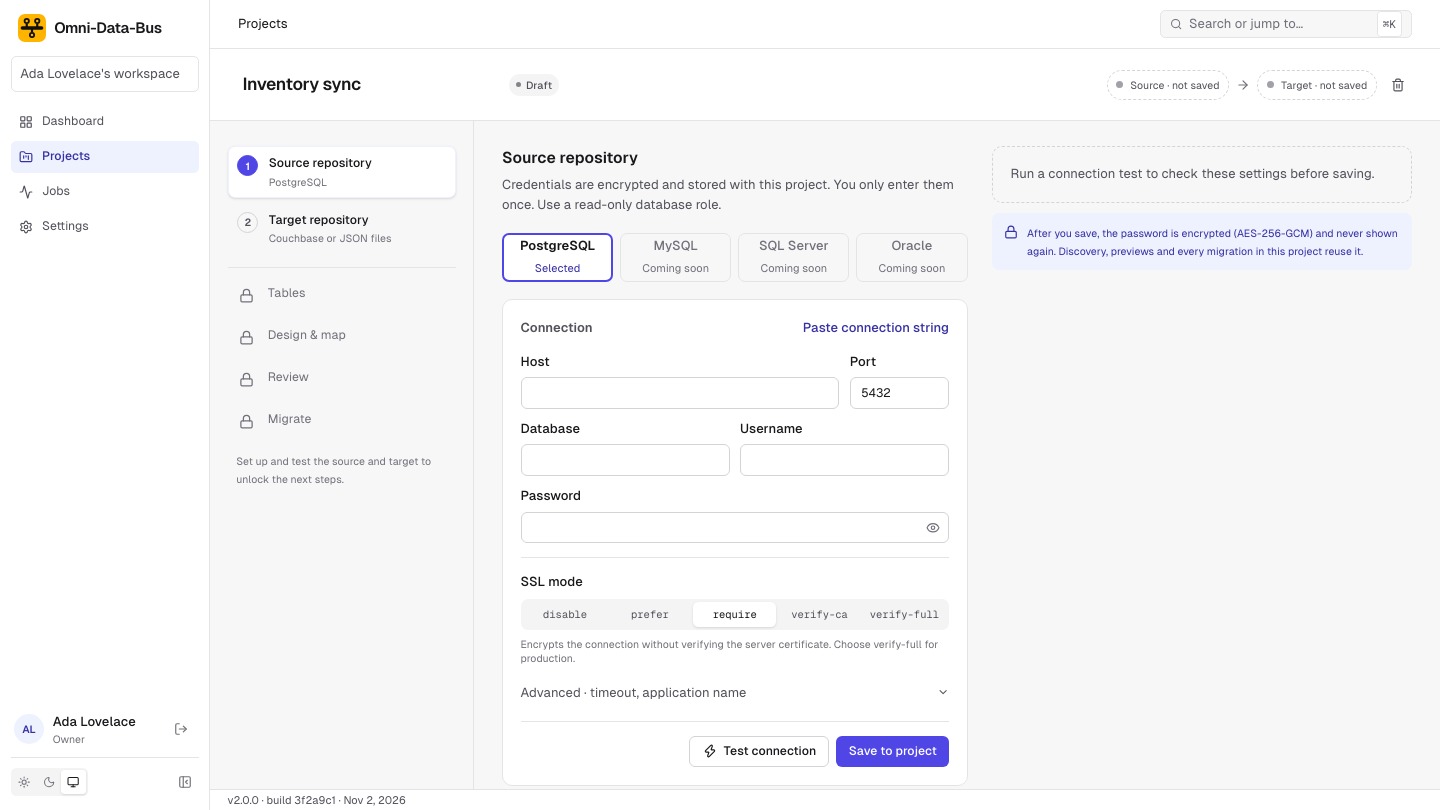
Scenario: Source step › AC6: confirms when untested, then collapses to the summary card
The image size is (1440, 810).
In the field labelled "Host": [680, 393] box 520,377 -> 839,408, type "db.example.com"
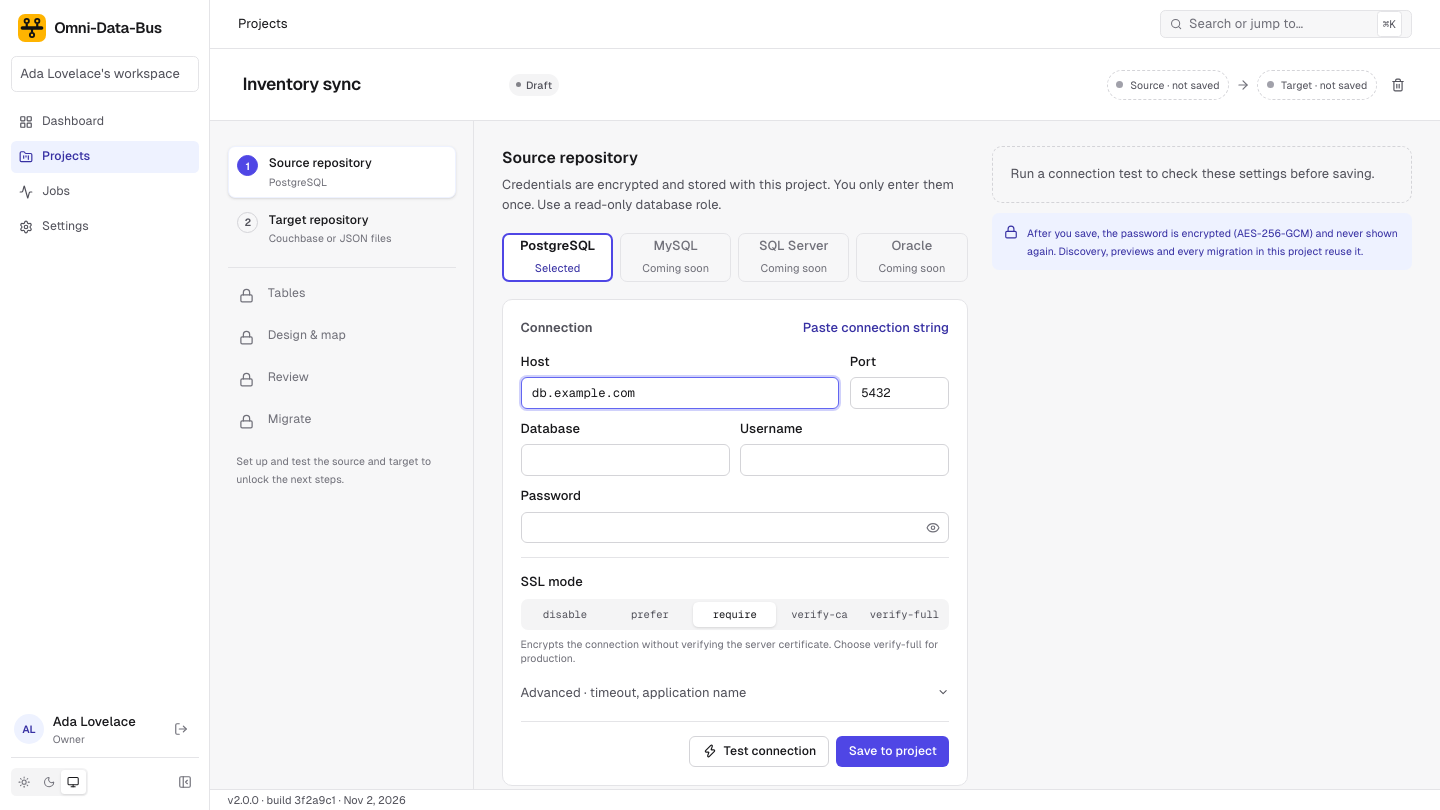
In the field labelled "Database": [625, 460] box 520,444 -> 730,476, type "shop"
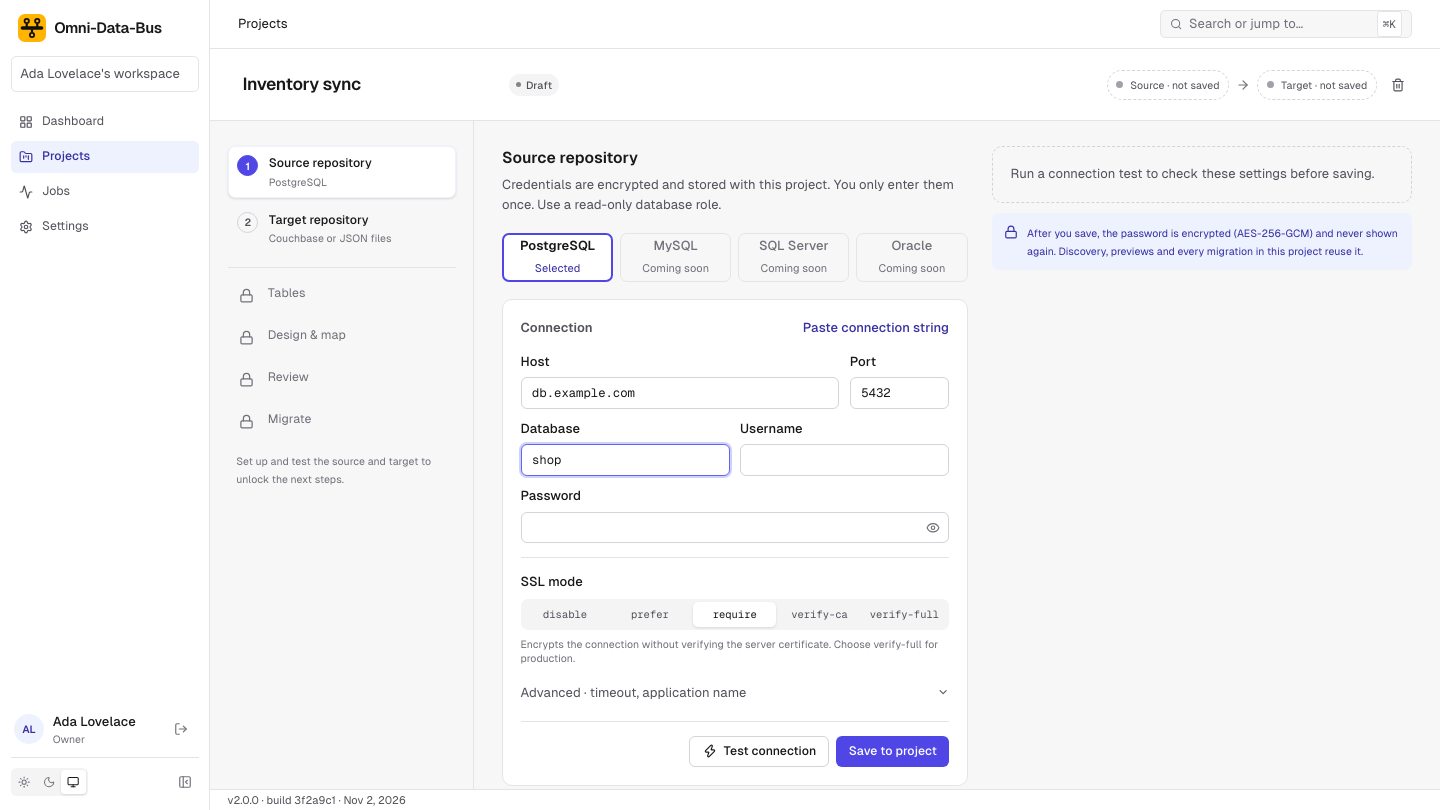
In the field labelled "Username": [844, 460] box 740,444 -> 949,476, type "omni_ro"
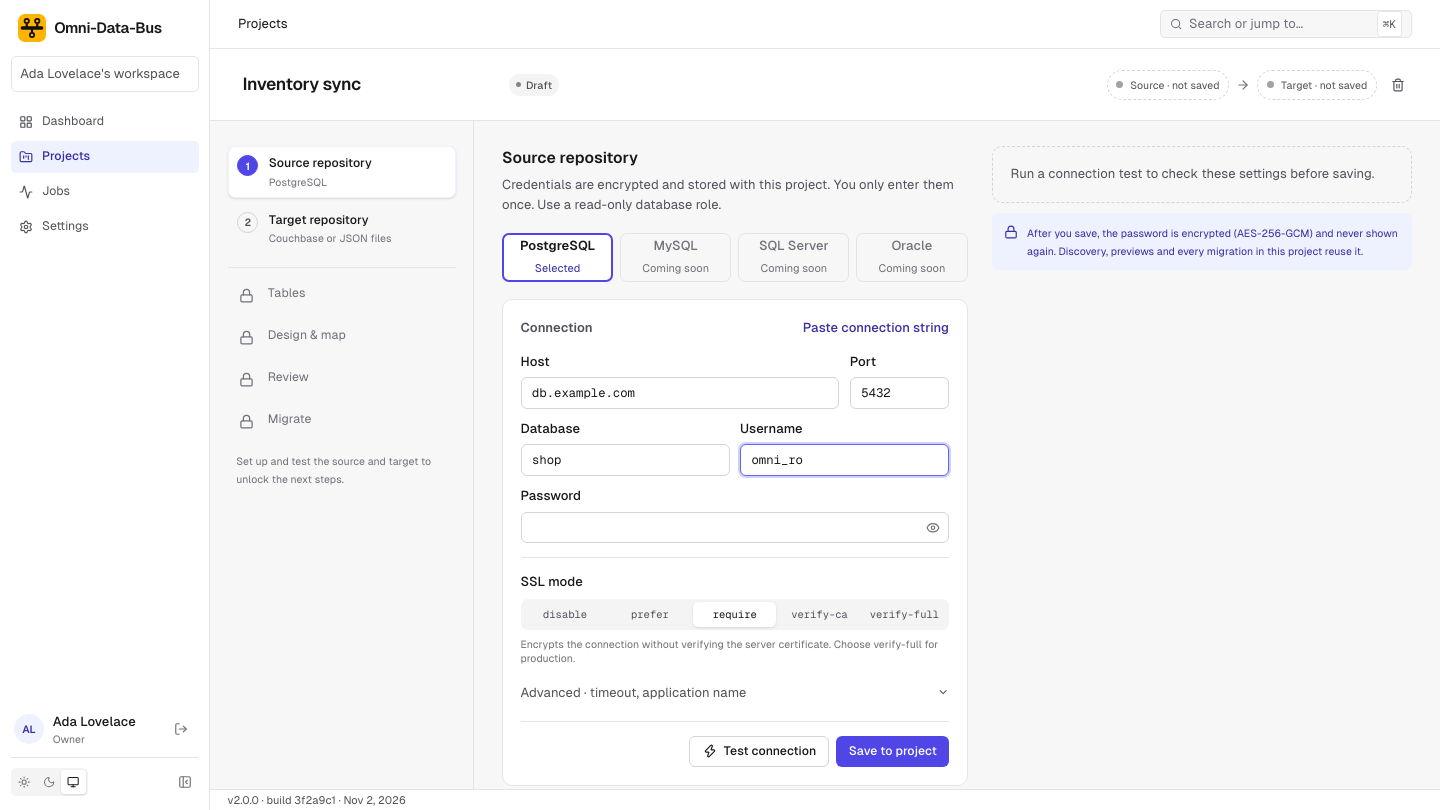
In the password field labelled "Password": [735, 527] box 520,512 -> 949,543, type "typed-password"
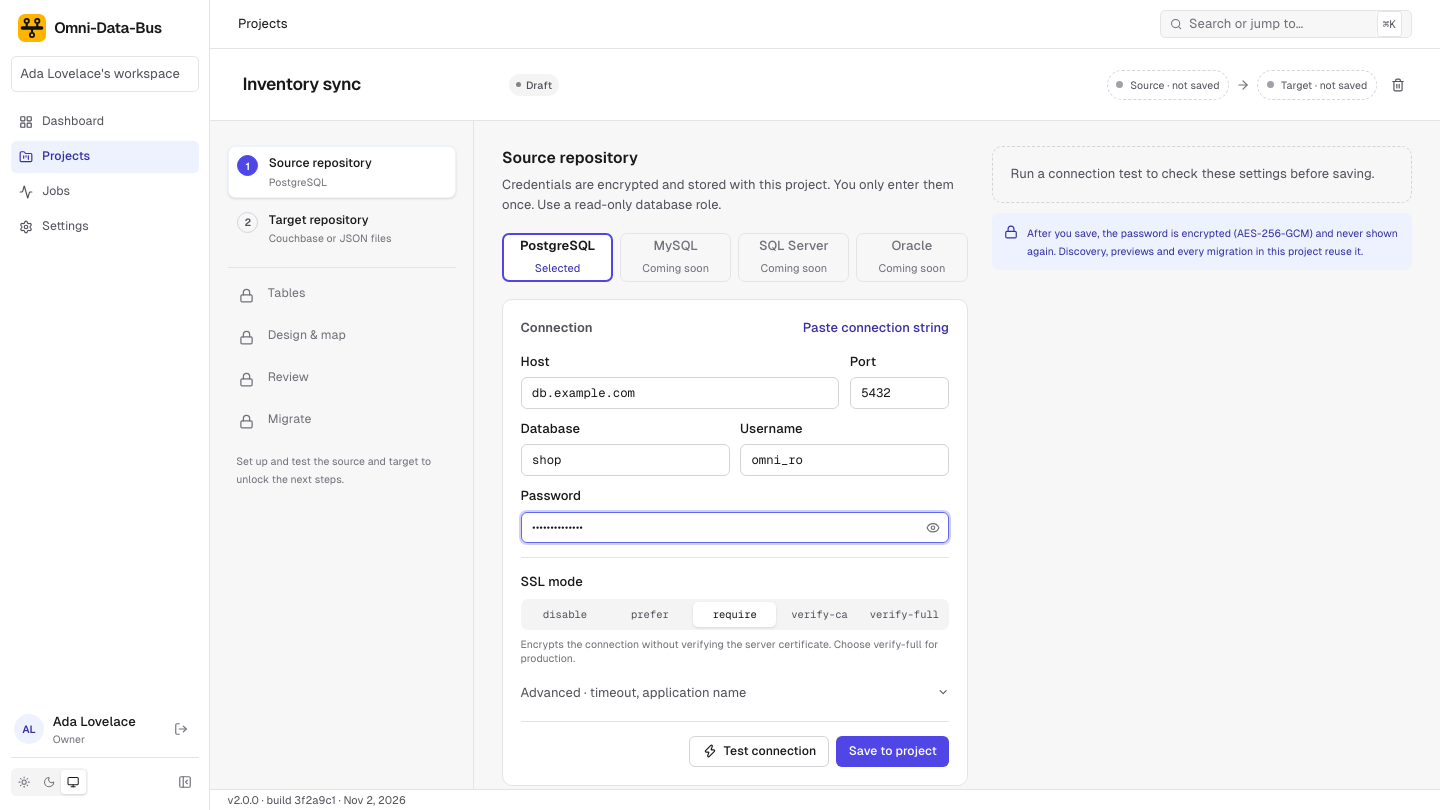
Click the button "Save to project": [893, 751] box 836,736 -> 949,767
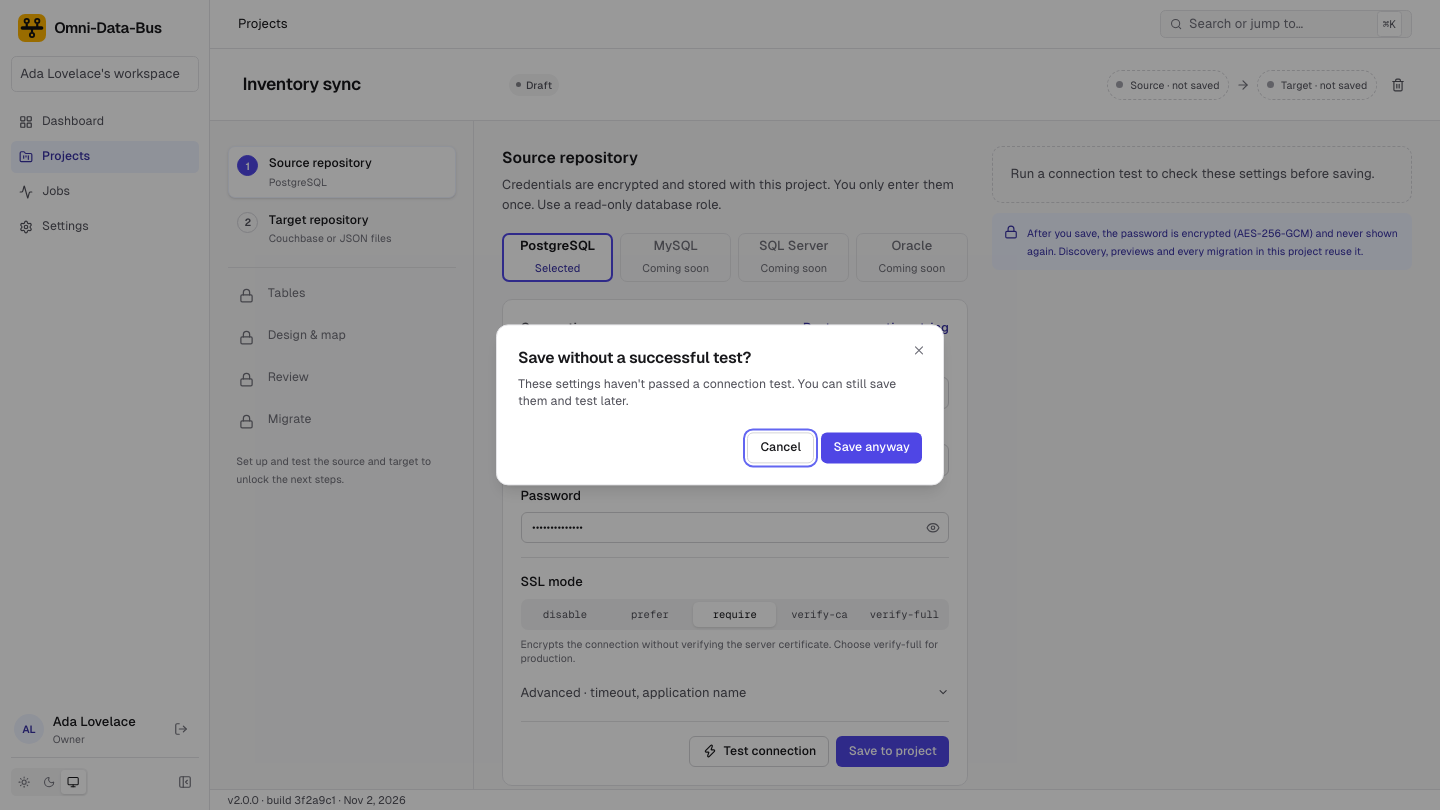
Check: the heading "Save without a successful test?" is shown, box 518,349 -> 751,366
Click the button "Save anyway": [872, 448] box 821,432 -> 922,464
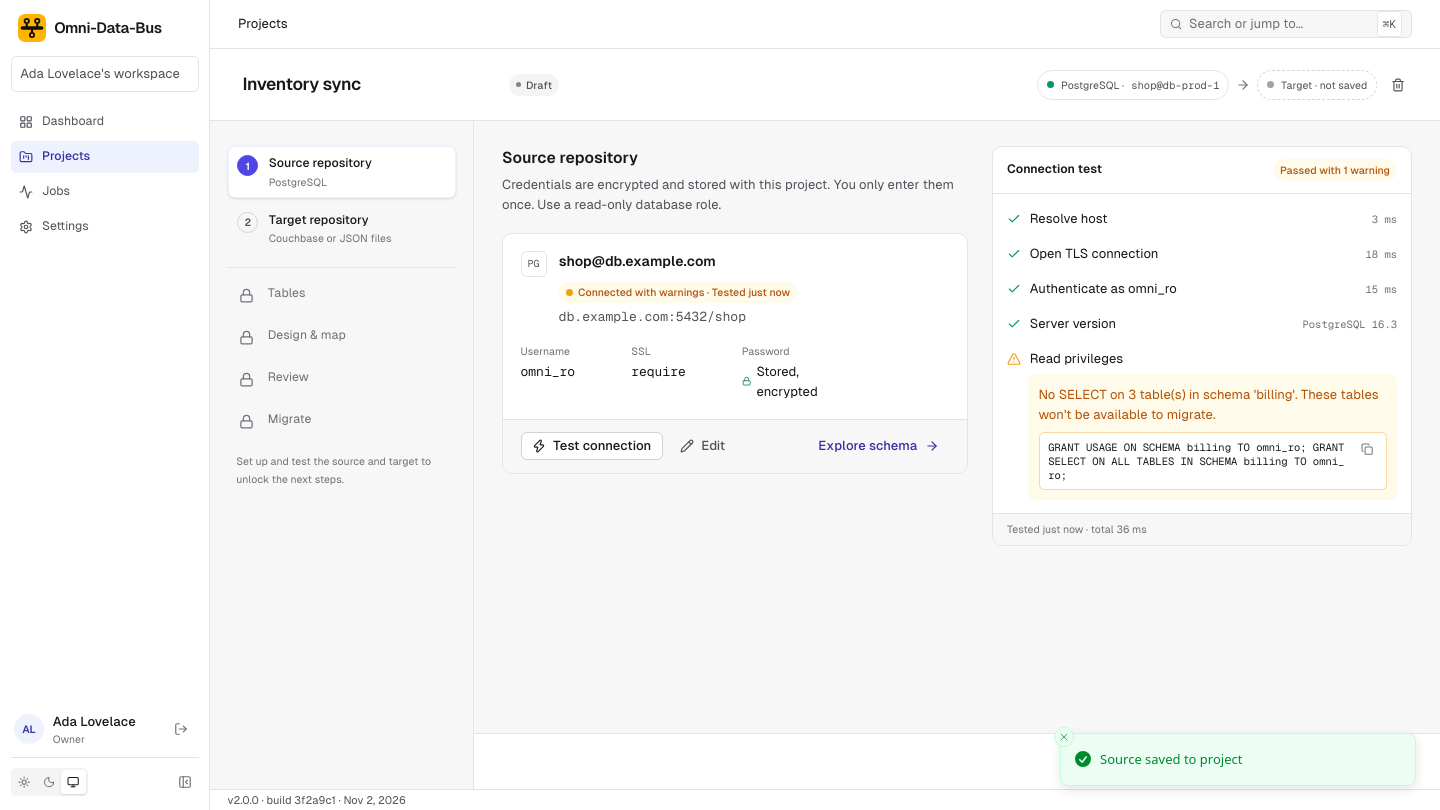
Check: the text "Source saved to project" is shown, box 1100,750 -> 1242,769
Check: the element "shop@db.example.com" shows "db.example.com:5432/shop", box 559,308 -> 746,324
Check: the element "shop@db.example.com" shows "Stored, encrypted", box 756,364 -> 818,398
